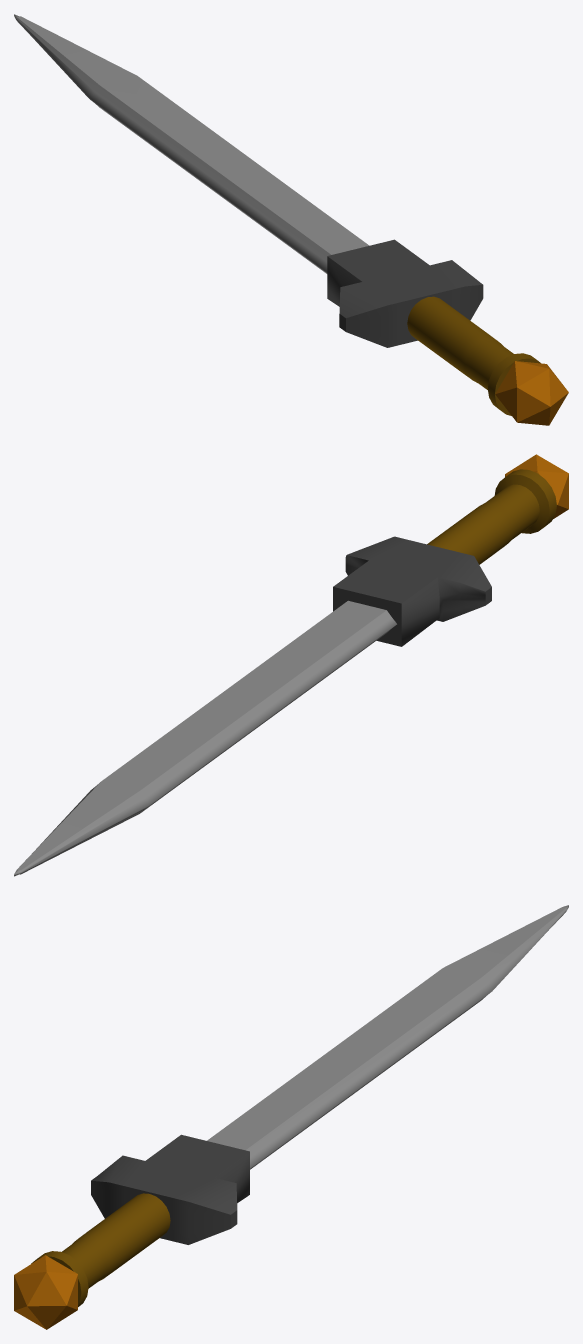
Rendered from medium_sword.fbx.
3 views of the same model, one above another, from view 1: azimuth 30°, elevation 25°; view 2: azimuth 150°, elevation 25°; view 3: azimuth 330°, elevation 25° (orthographic).
Visible parts, largest first — view 1: polySurface308; view 2: polySurface308; view 3: polySurface308.
Part boxes in pixels (<box>): polySurface308: <box>14,14,568,425</box>; polySurface308: <box>14,454,568,876</box>; polySurface308: <box>14,905,568,1329</box>.
Bounding box in the file's own units: 41.79 × 16.66 × 281.
